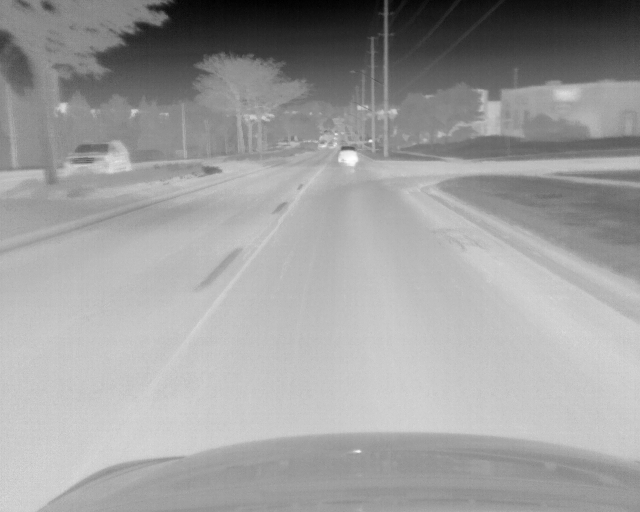car: (61, 141, 128, 173), (338, 146, 357, 164)
